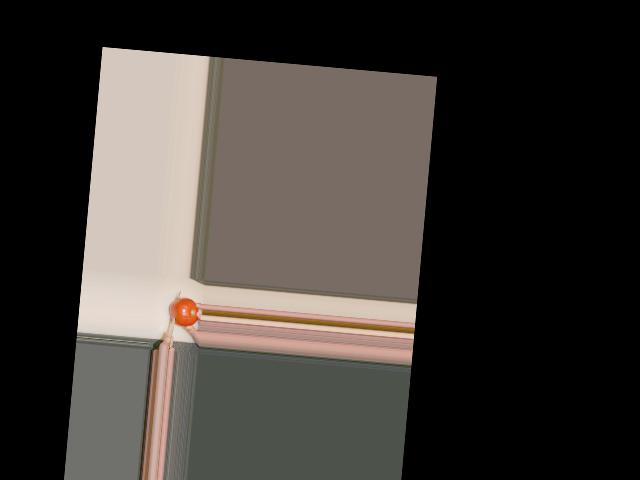tomato: (168, 296, 199, 327)
